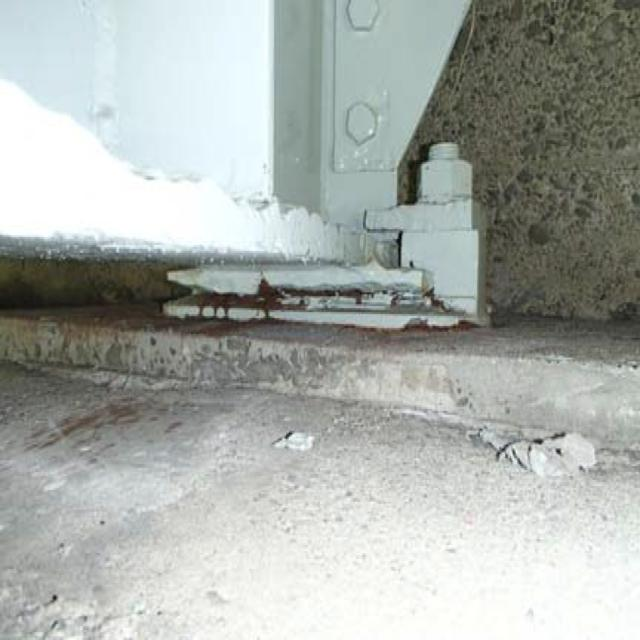corrosion: (151, 263, 483, 346)
